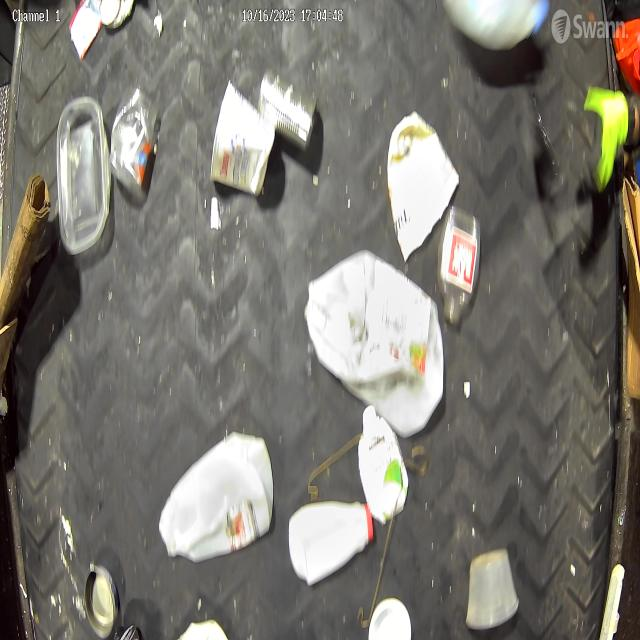can: (257, 77, 320, 148), (80, 561, 122, 640)
milk_jug: (306, 243, 446, 425), (158, 433, 274, 558)
